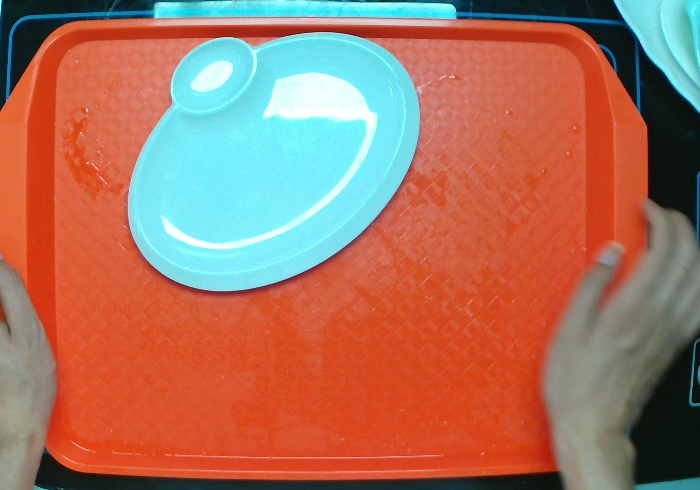RJxy-Zhan_Liao_Pan: (124, 27, 425, 298)
